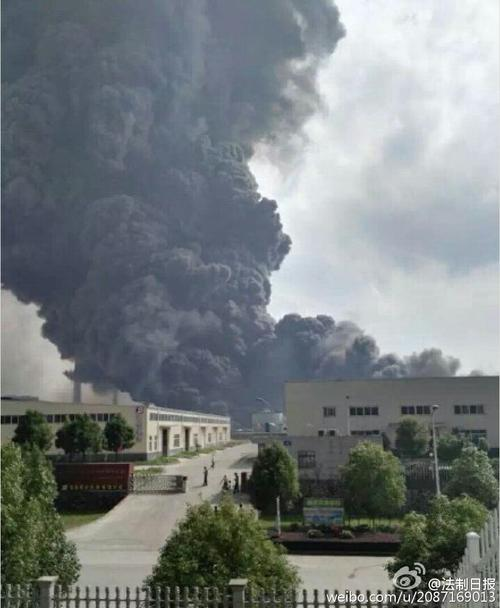smoke: (6, 1, 339, 382)
